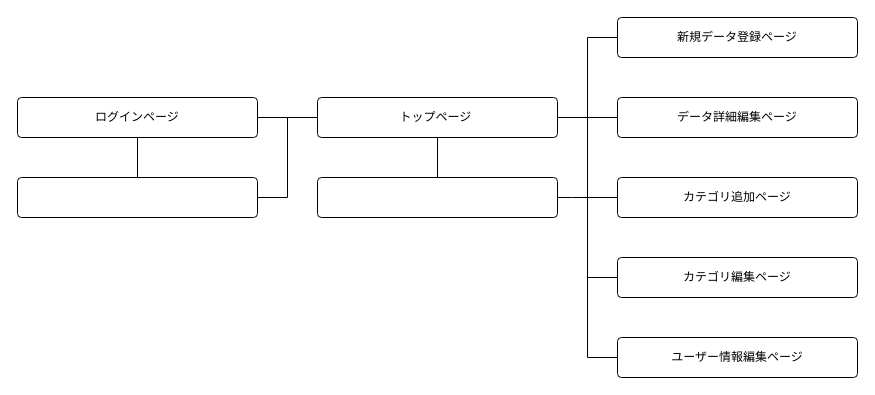
The diagram is 875 pixels wide and 395 high, and some of its shapes have lost their labels. Here are the shapes that lost their labels. From the top down, the centre of each, then its label:
At [137,197]: "ユーザー登録ページ".
At [437,197]: "カテゴリページ".
